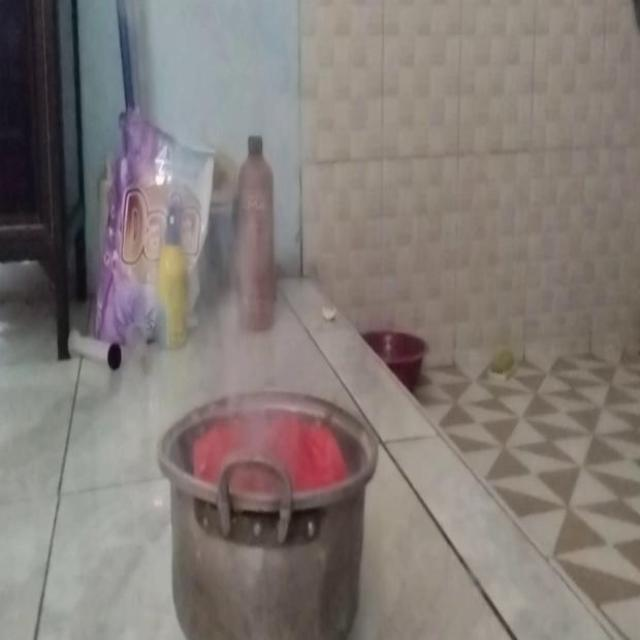fire: (156, 0, 270, 446)
